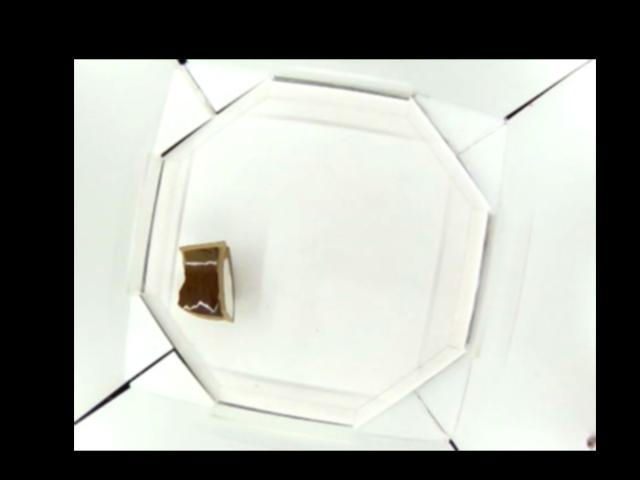China: (173, 239, 237, 319)
